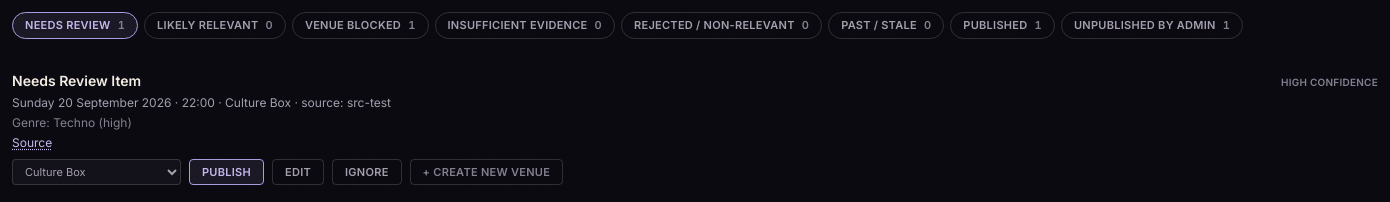
Test: AdminQueueTabs › shows the canonical (current) title/venue for a published row, not a raw diagnostic dump
Click the tab "Published 1": (1003, 25) [950,12,1055,38]
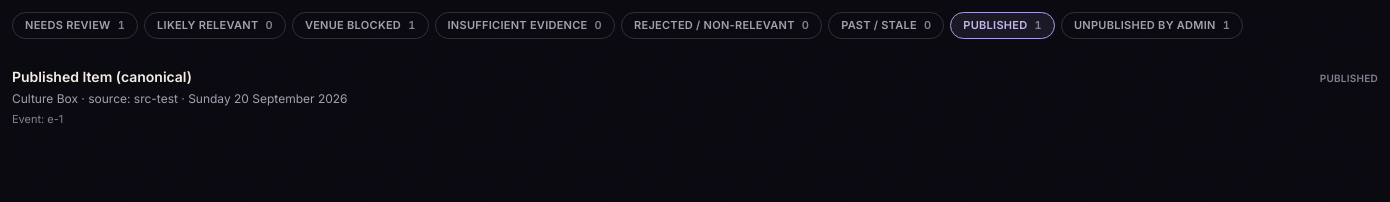
Now the text "Published Item (canonical)" is shown, box [12,66,192,86]
